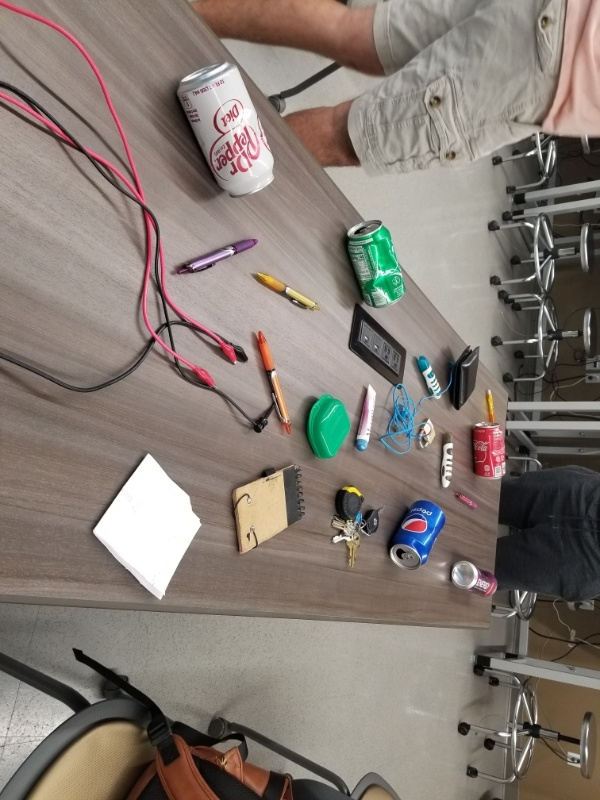can: (171, 60, 278, 200), (342, 217, 406, 311), (384, 497, 449, 572), (469, 419, 509, 481), (449, 556, 498, 601)
